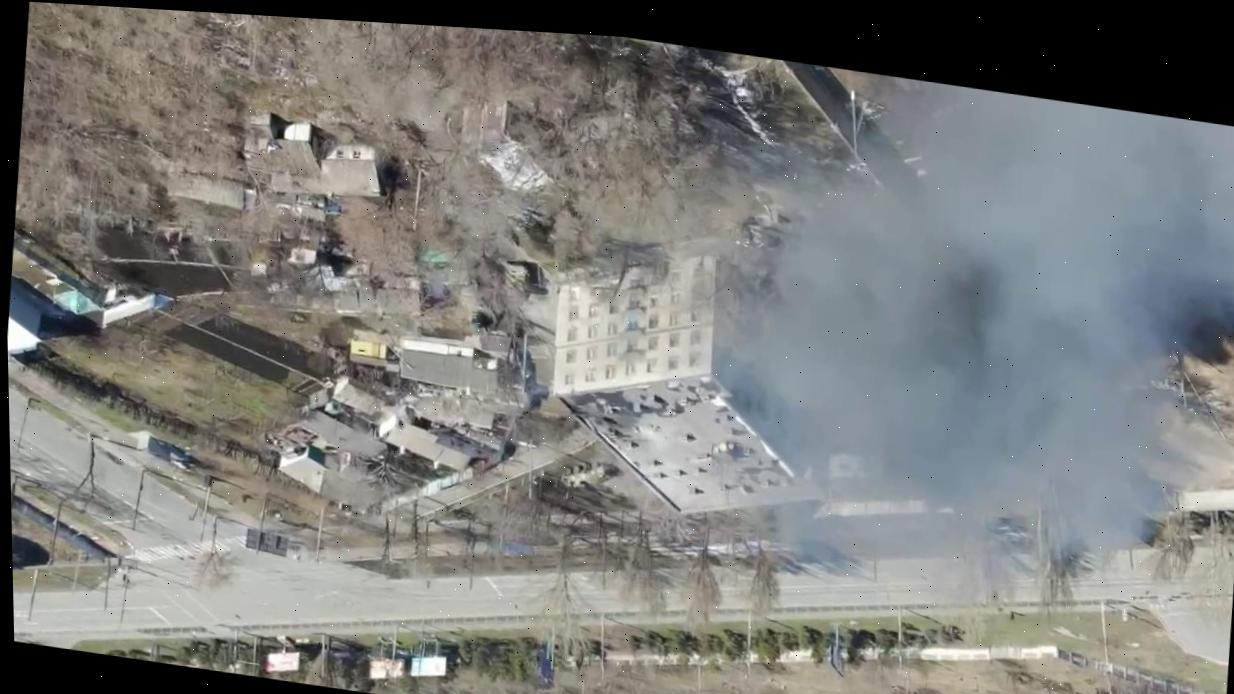tank: (495, 253, 536, 306), (558, 455, 611, 491)
